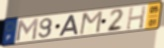2: (107, 8, 125, 33)
9: (39, 16, 54, 39)
A: (58, 14, 80, 38)
H: (125, 5, 148, 31)
M: (78, 9, 104, 36), (15, 17, 40, 43)
